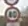limite 40: (4, 5, 20, 22)
